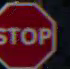Stop: (0, 4, 60, 66)
